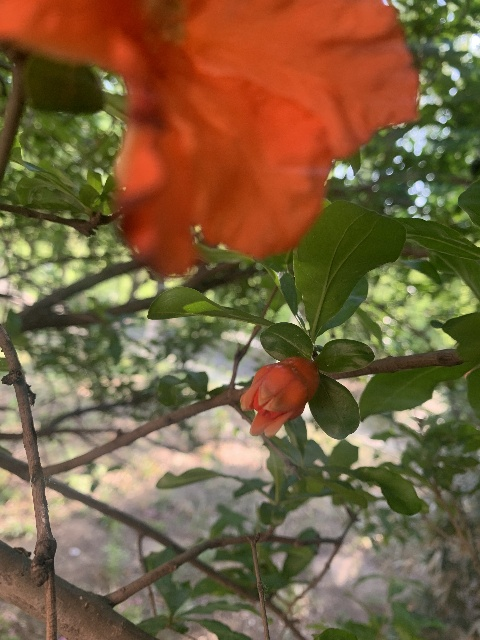flower: (0, 0, 429, 276), (240, 356, 319, 437)
